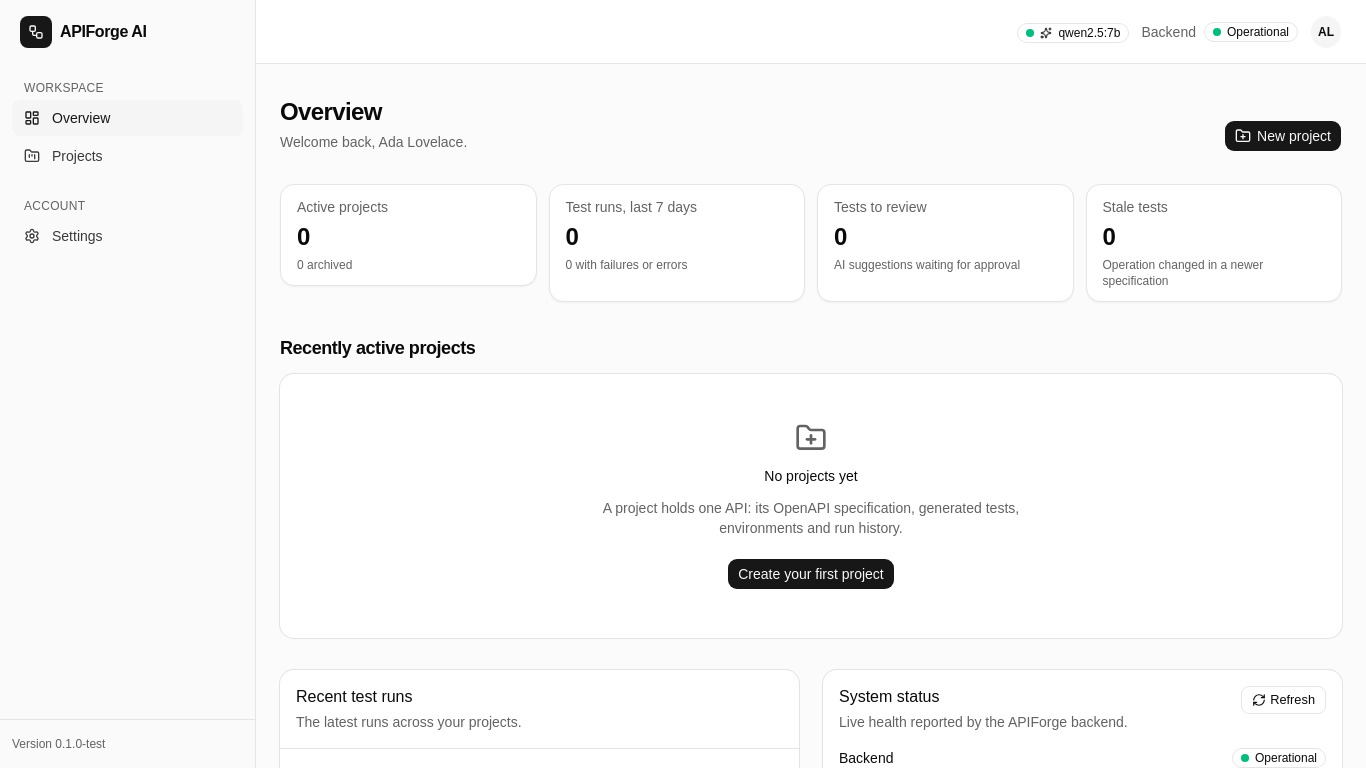
Test: Settings › is reachable from the account menu
Step 1. Click the button with aria-label "Account menu for Ada Lovelace" → click(1326, 32), box [1310,16,1342,48]
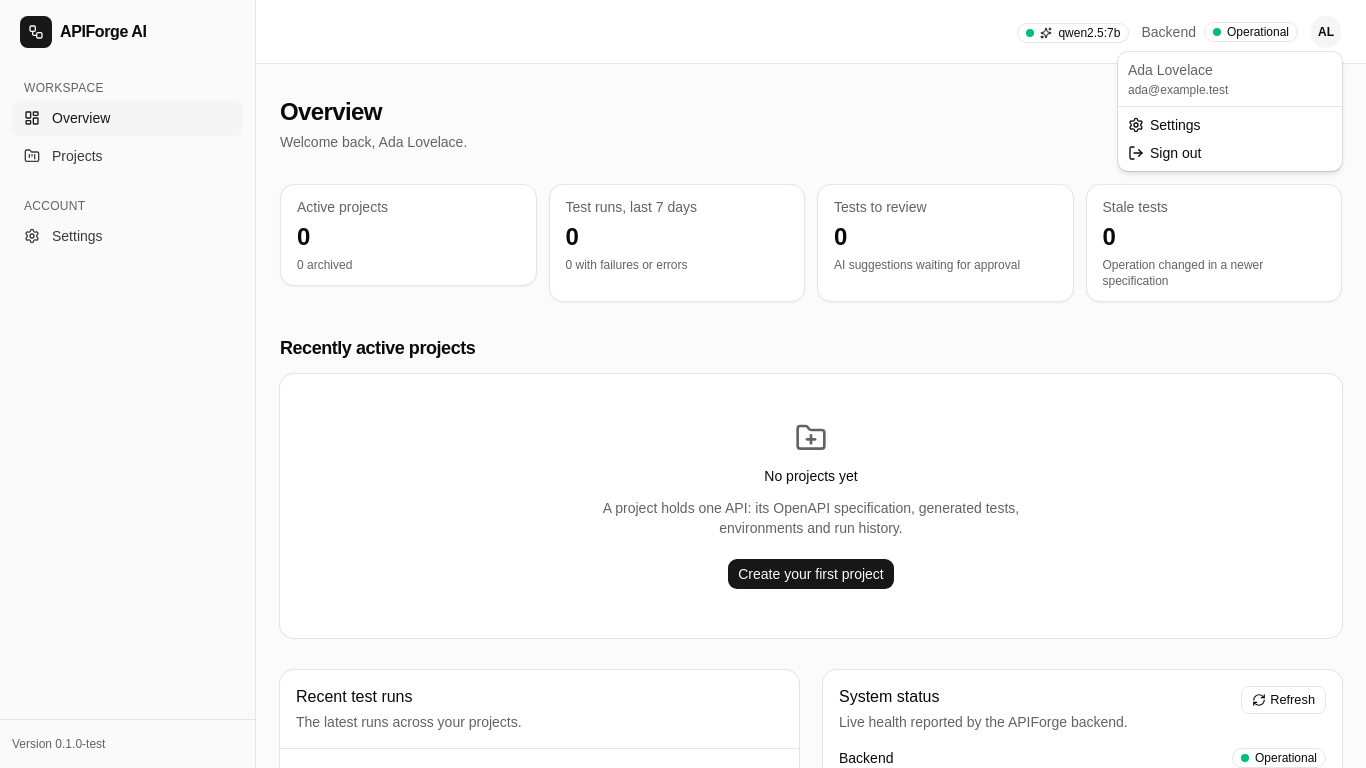
Step 2. Click the menu item "Settings" → click(1164, 125), box [1128,117,1201,133]
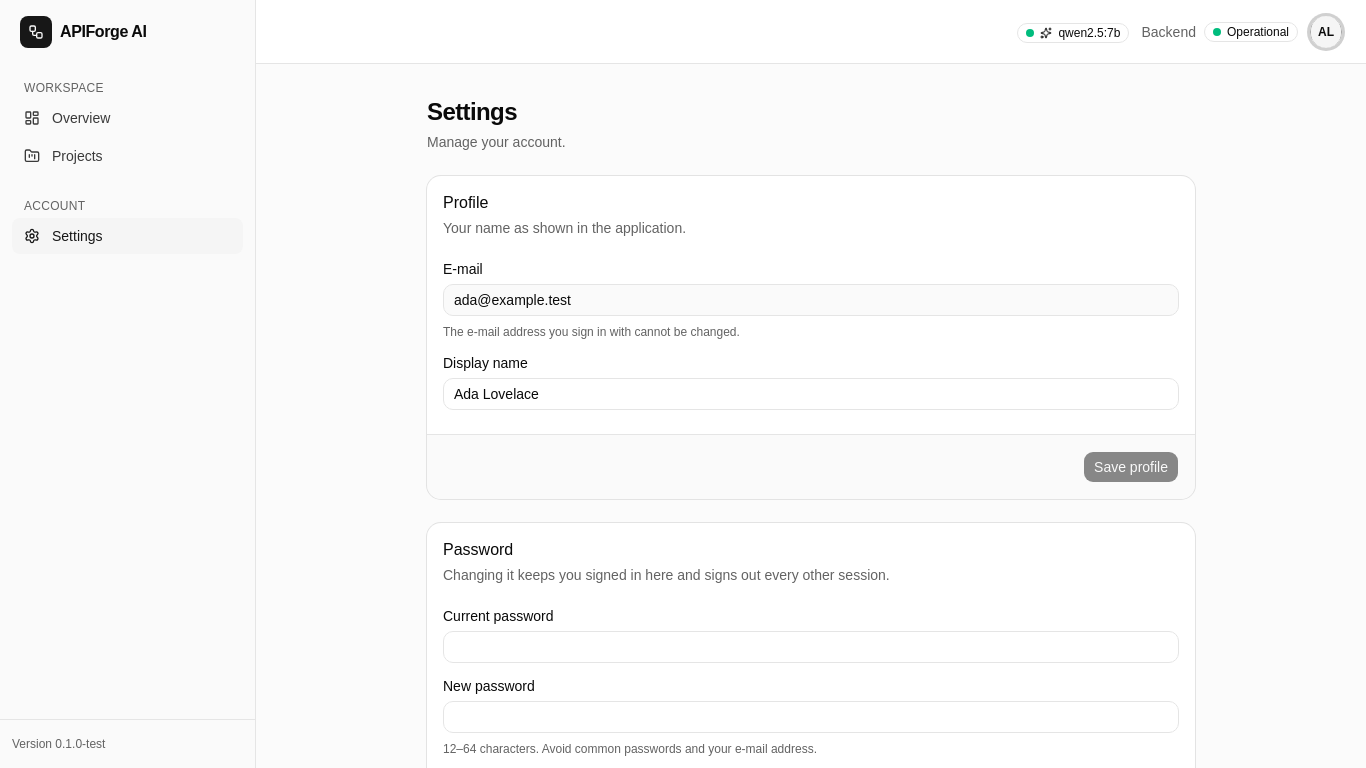
Result: the heading "Settings" is shown at [427,98,517,125]
